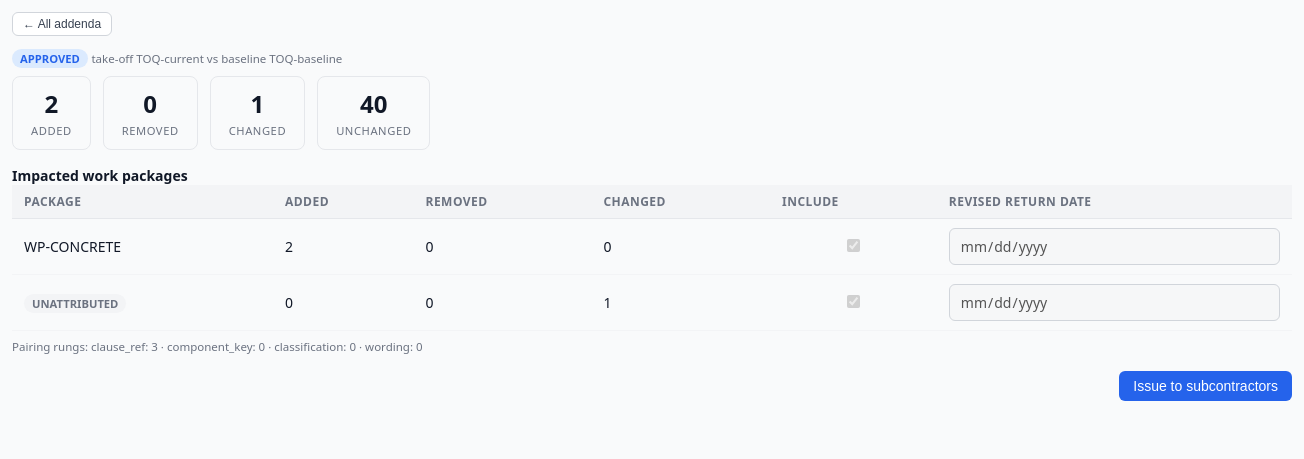
Scenario: AddendumDetail › issuing renders the send/fail/skip summary, including a partial failure
The width and height of the screenshot is (1304, 459).
Step 1. Click the button "Issue to subcontractors" → click(1206, 386), box [1119, 370, 1292, 400]
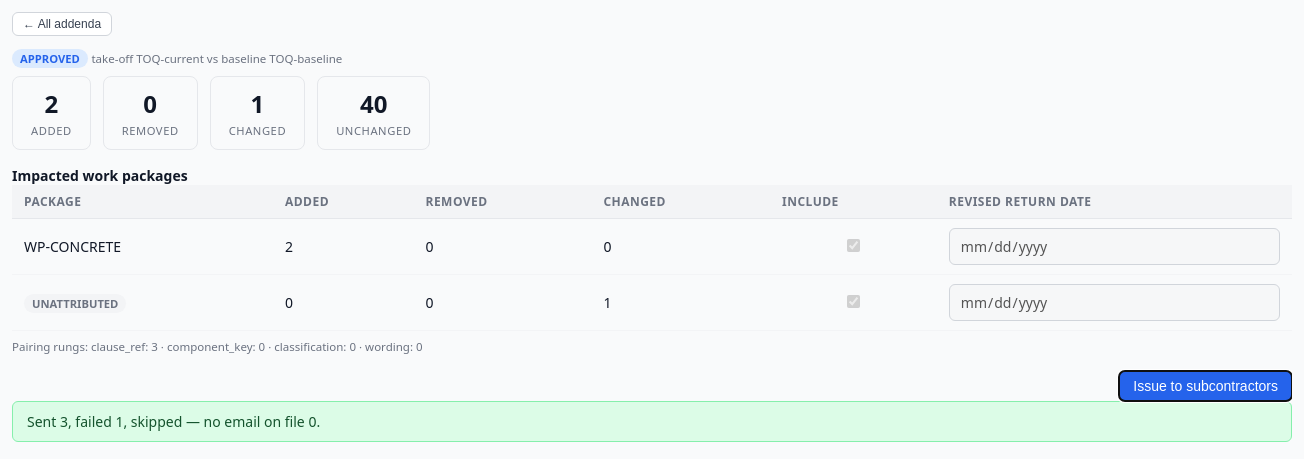
Expected: the text "Sent 3, failed 1, skipped — no email on file 0." is shown, [12, 400, 1292, 442]
